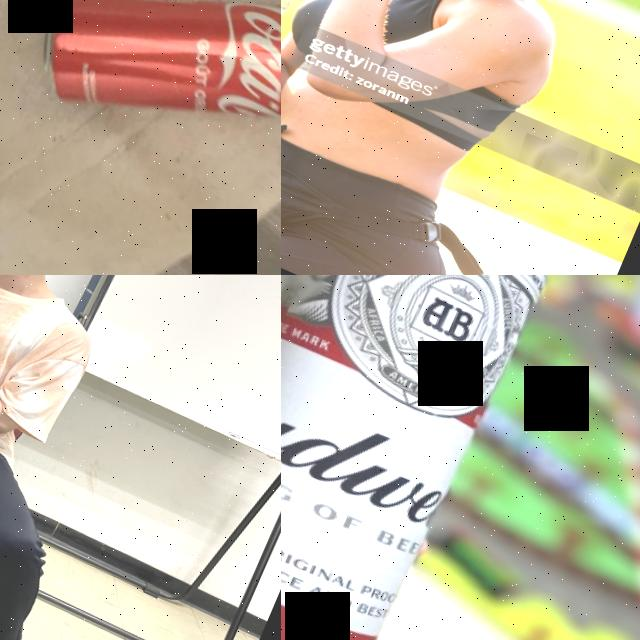can: (281, 275, 577, 640), (19, 0, 281, 203)
